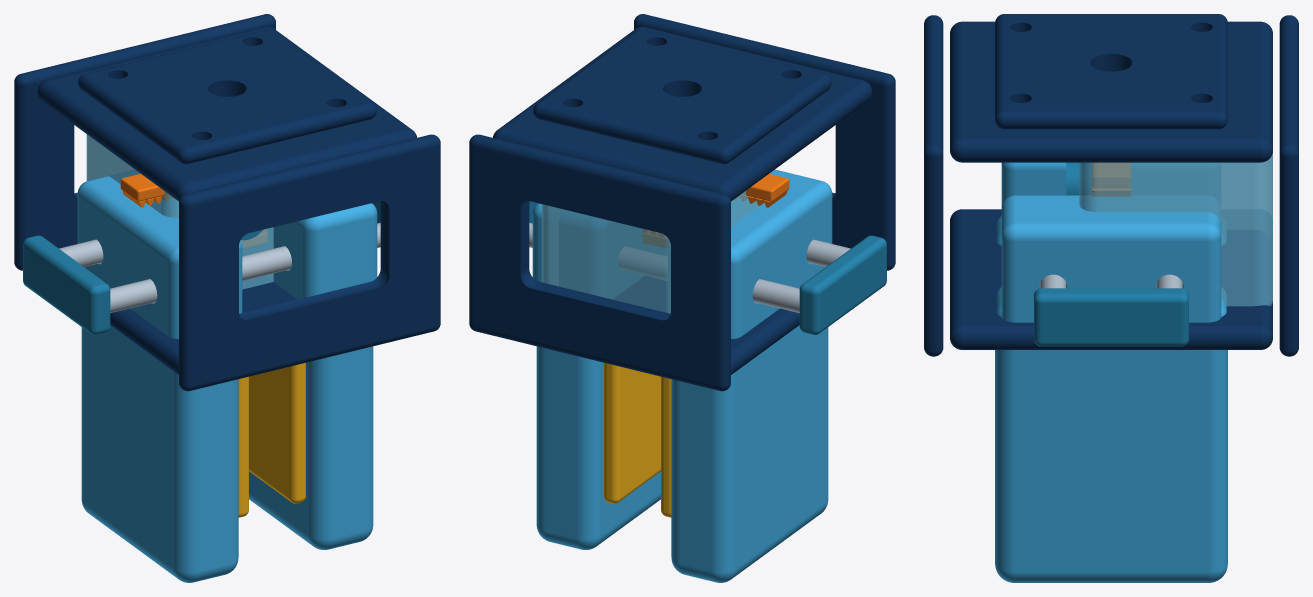
File: G01_detailed_gripper_closed_candidate.glb
The picture shows the model from 3 angles, left to right: view 1: azimuth 30°, elevation 25°; view 2: azimuth 150°, elevation 25°; view 3: azimuth 270°, elevation 25°; orthographic projection. The views are drawn at different scales.
Parts seen in each view (by area): view 1: L_FINGER_NEGATIVE, L_PALM_FRONT_PLATE, L_WRIST_MOUNT_PLATE, L_FINGER_POSITIVE, L_PALM_TOP_BRIDGE, L_PALM_REAR_PLATE, L_PAD_POSITIVE, L_STOP_NEGATIVE, L_PALM_BOTTOM_BRIDGE, L_ACTUATOR_VENDOR_CANDIDATE, L_GUIDE_ROD_FRONT, L_PAD_NEGATIVE (+2 smaller); view 2: L_FINGER_NEGATIVE, L_PALM_REAR_PLATE, L_WRIST_MOUNT_PLATE, L_FINGER_POSITIVE, L_PALM_TOP_BRIDGE, L_PALM_FRONT_PLATE, L_ACTUATOR_VENDOR_CANDIDATE, L_PAD_POSITIVE, L_STOP_NEGATIVE, L_PALM_BOTTOM_BRIDGE, L_GUIDE_ROD_REAR, L_PAD_NEGATIVE (+2 smaller); view 3: L_FINGER_POSITIVE, L_WRIST_MOUNT_PLATE, L_PALM_TOP_BRIDGE, L_PALM_BOTTOM_BRIDGE, L_ACTUATOR_VENDOR_CANDIDATE, L_STOP_POSITIVE, L_PALM_REAR_PLATE, L_PALM_FRONT_PLATE, L_FINGER_NEGATIVE, L_RACK_POSITIVE, L_MANUAL_RELEASE_HUB.
Boxes of the visible parts, <box> form: L_FINGER_NEGATIVE: <box>77,170,242,582</box>; L_PALM_FRONT_PLATE: <box>179,134,440,391</box>; L_WRIST_MOUNT_PLATE: <box>78,29,376,164</box>; L_FINGER_POSITIVE: <box>242,203,377,549</box>; L_PALM_TOP_BRIDGE: <box>37,26,416,201</box>; L_PALM_REAR_PLATE: <box>14,14,275,270</box>; L_PAD_POSITIVE: <box>249,363,305,503</box>; L_STOP_NEGATIVE: <box>23,235,110,334</box>; L_PALM_BOTTOM_BRIDGE: <box>110,276,297,374</box>; L_ACTUATOR_VENDOR_CANDIDATE: <box>86,134,273,289</box>; L_GUIDE_ROD_FRONT: <box>110,222,380,312</box>; L_PAD_NEGATIVE: <box>238,376,248,517</box>; L_FINGER_NEGATIVE: <box>668,169,832,582</box>; L_PALM_REAR_PLATE: <box>469,134,730,391</box>; L_WRIST_MOUNT_PLATE: <box>533,29,831,164</box>; L_FINGER_POSITIVE: <box>532,203,665,549</box>; L_PALM_TOP_BRIDGE: <box>493,26,872,201</box>; L_PALM_FRONT_PLATE: <box>634,14,895,270</box>; L_ACTUATOR_VENDOR_CANDIDATE: <box>541,191,759,313</box>; L_PAD_POSITIVE: <box>604,363,660,503</box>; L_STOP_NEGATIVE: <box>799,235,886,334</box>; L_PALM_BOTTOM_BRIDGE: <box>613,276,799,374</box>; L_GUIDE_ROD_REAR: <box>529,222,799,312</box>; L_PAD_NEGATIVE: <box>661,376,671,517</box>; L_FINGER_POSITIVE: <box>995,195,1227,582</box>; L_WRIST_MOUNT_PLATE: <box>995,14,1227,129</box>; L_PALM_TOP_BRIDGE: <box>950,21,1272,162</box>; L_PALM_BOTTOM_BRIDGE: <box>950,209,1272,349</box>; L_ACTUATOR_VENDOR_CANDIDATE: <box>1079,153,1272,306</box>; L_STOP_POSITIVE: <box>1034,288,1188,346</box>; L_PALM_REAR_PLATE: <box>1279,15,1298,356</box>; L_PALM_FRONT_PLATE: <box>924,15,943,356</box>; L_FINGER_NEGATIVE: <box>996,162,1226,245</box>; L_RACK_POSITIVE: <box>1092,163,1130,196</box>; L_MANUAL_RELEASE_HUB: <box>1066,162,1091,195</box>.
Bounding box in the file's own units: 66 × 81 × 58.
